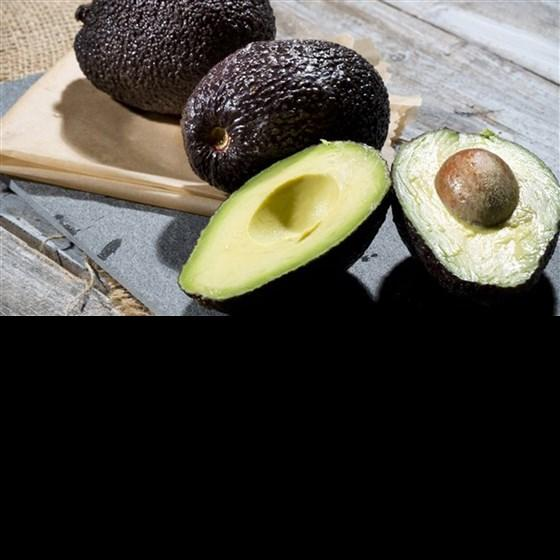ripe: (179, 39, 390, 194), (73, 1, 277, 116)
